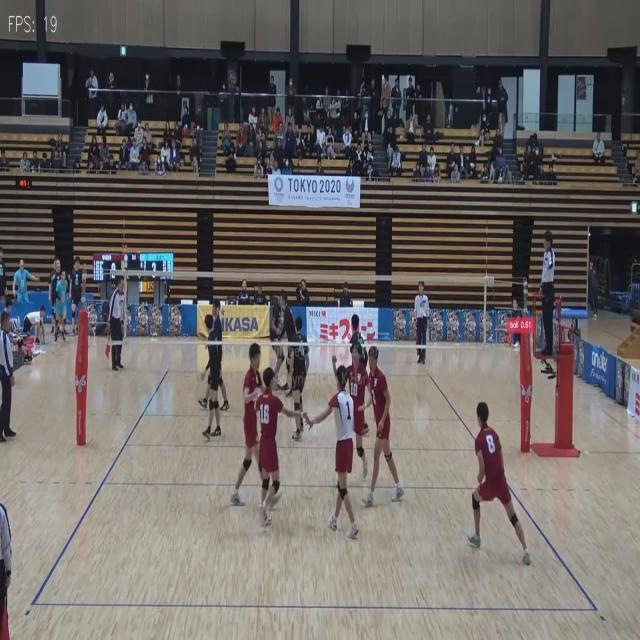volleyball: (196, 330, 208, 341)
